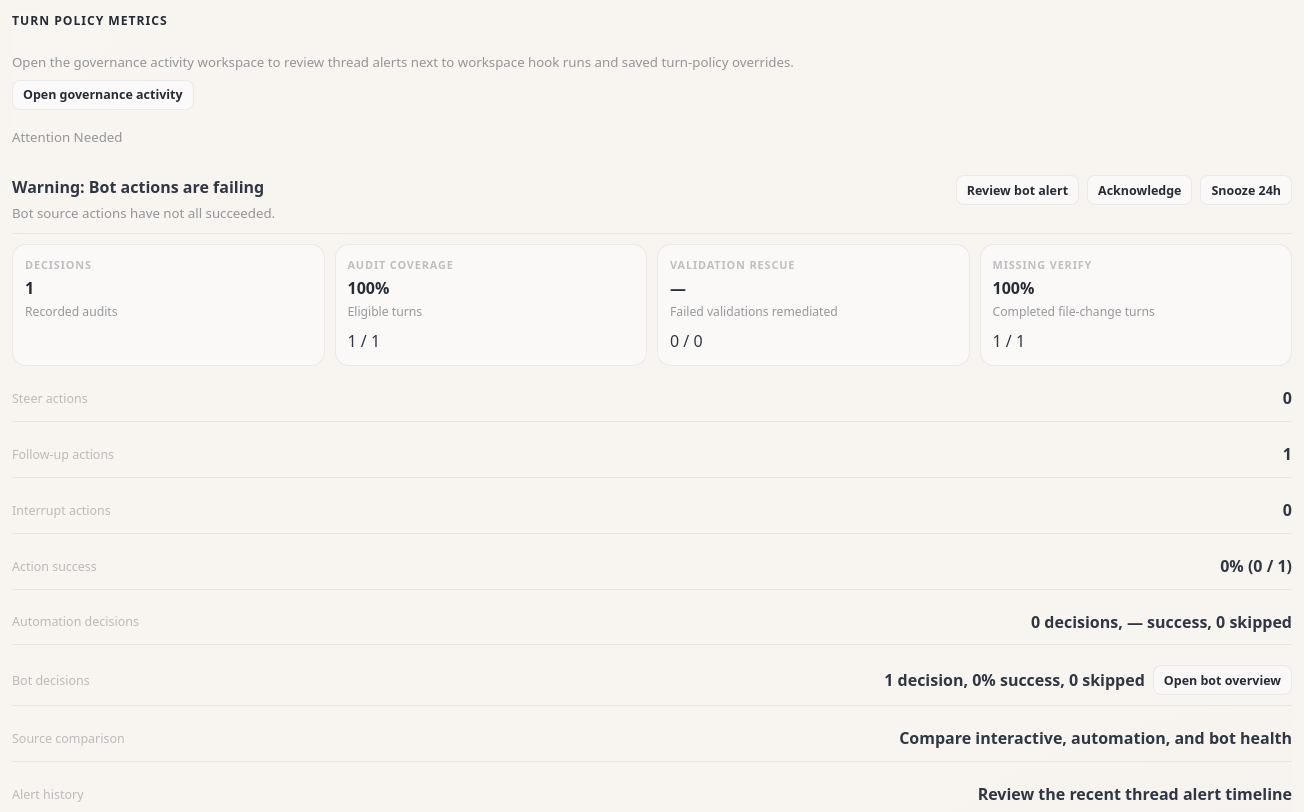
Scenario: ThreadWorkbenchRailTurnPolicyMetricsSection › shows alert governance errors when thread quick actions fail
This screenshot has width=1304, height=812.
What coordinates should you click on to do the following:
click the button with aria-label "Acknowledge for alert Bot actions are failing"
I would click on:
 (1140, 190)
Its box is [1087,175,1192,205].
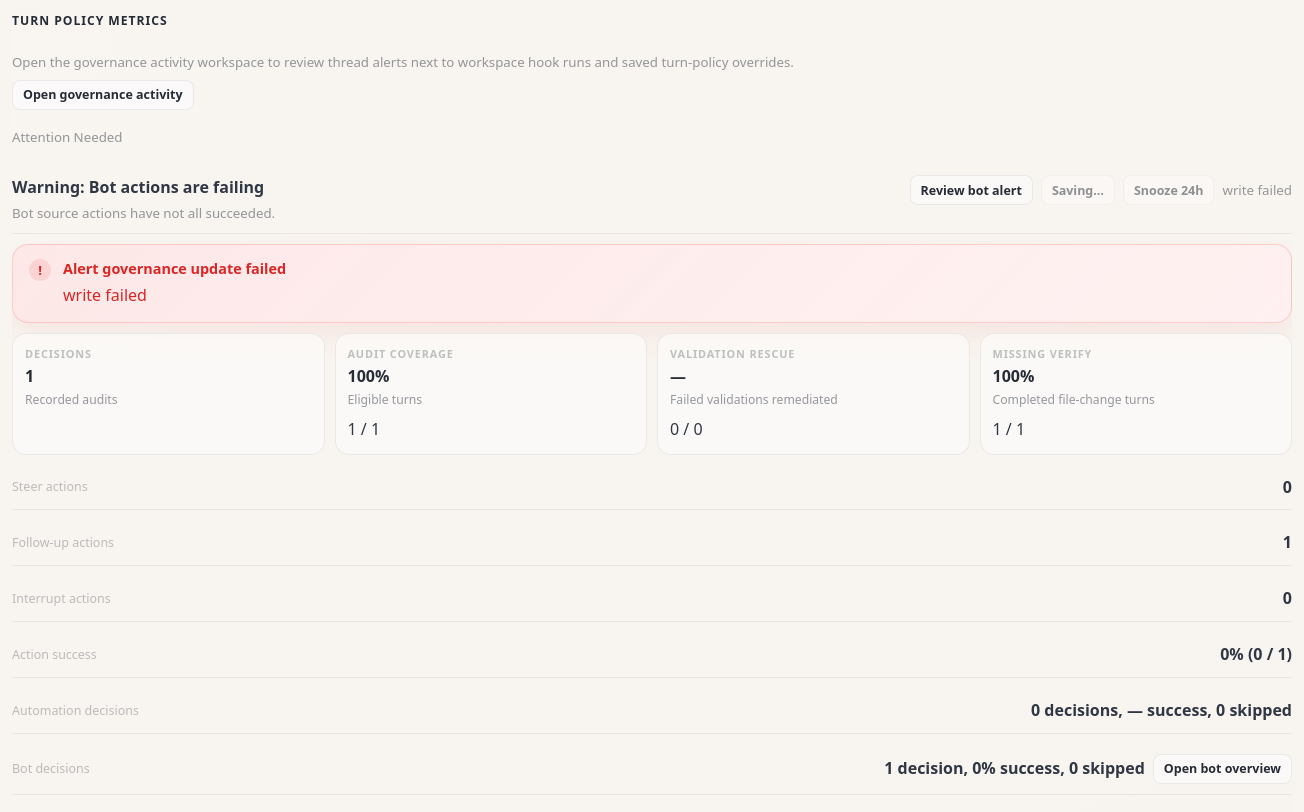
Result: the text "Alert governance update failed" is shown at [63,259,286,279]
Result: the text "write failed" is shown 2 times at [1222,181,1292,200]; [63,284,147,306]
